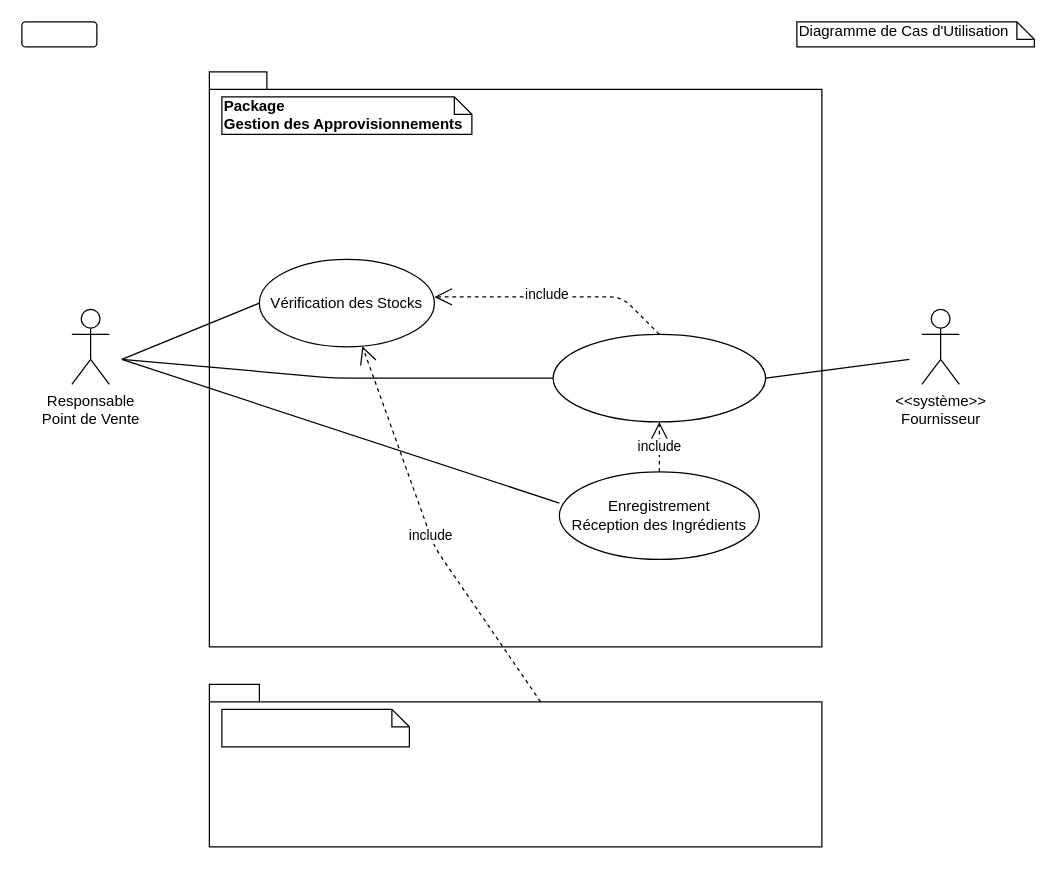
The diagram is 1056 pixels wide and 869 high, and some of its shapes have lost their labels. Each missing label, with the centre of its shape:
Commande des Ingrédiants Manquants ou Insuffisants: (659,377)
OC'Pizza: (59,34)
Package Gestion des Préparations: (315,727)
